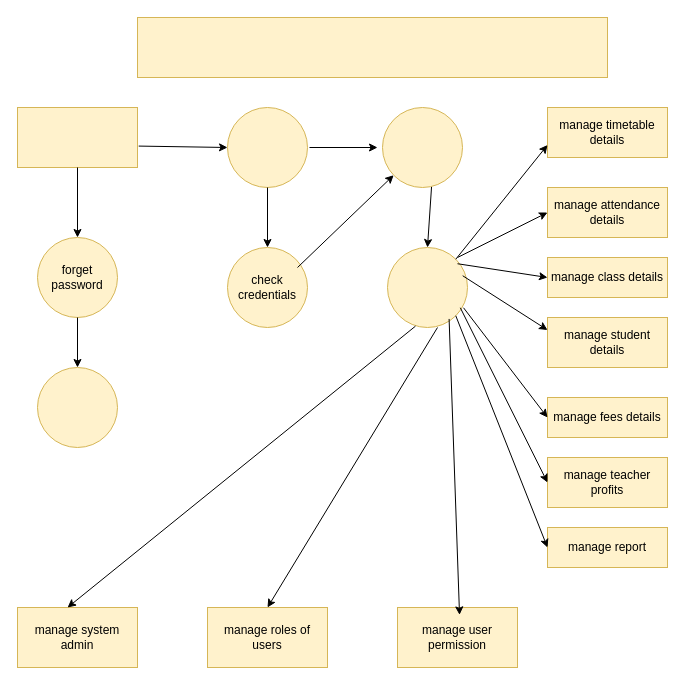
Some shapes in this 685 by 685 pixel diagram are drawn without their labels. The shapes that lost their labels are listed below. From the top down, each one's centre as x and y in pixels, then its label:
At (372,47): "student information system".
At (77,137): "admin".
At (267,147): "login to system".
At (422,147): "check rules of access".
At (427,287): "manage modules".
At (77,407): "send email to users".
